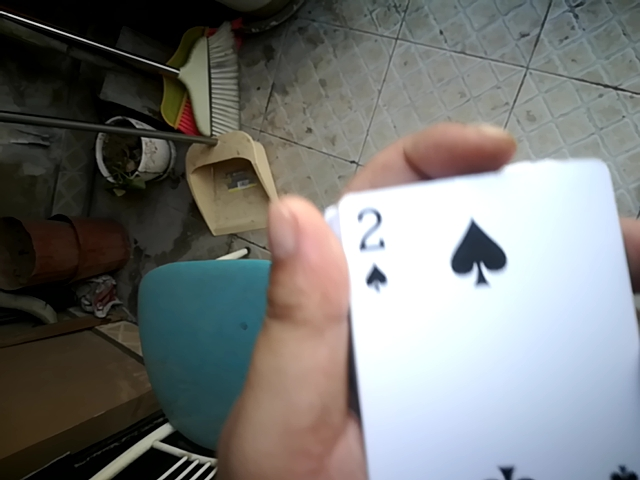ht 2: (321, 161, 633, 477)
